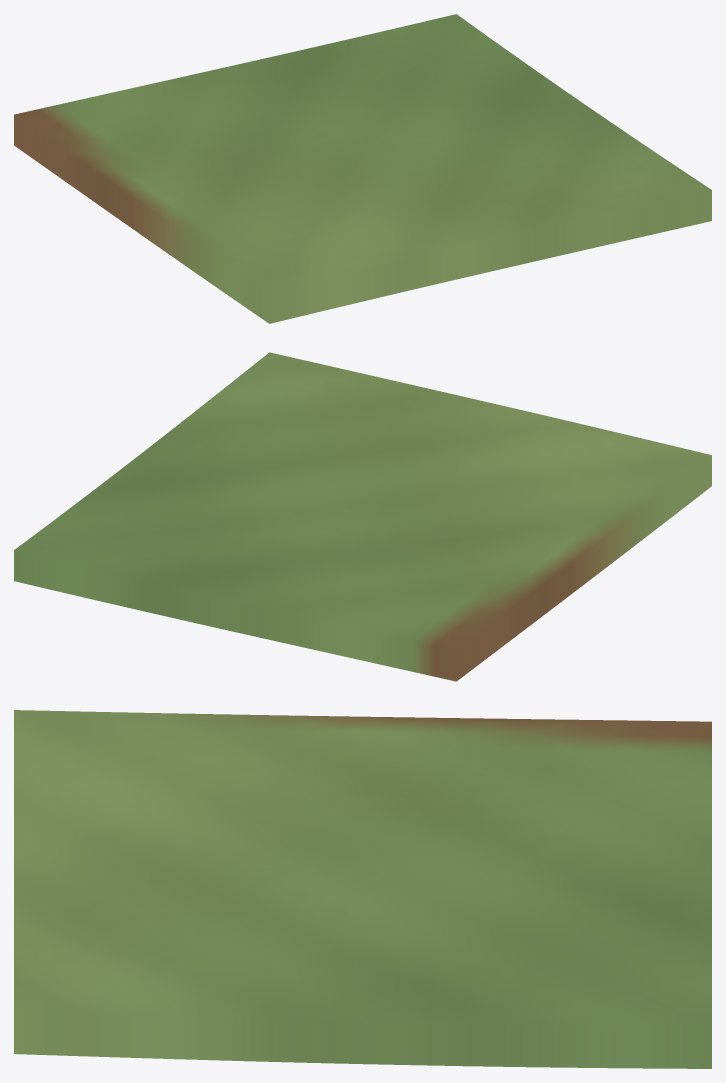
The picture shows the model from 3 angles, top to bottom: view 1: azimuth 30°, elevation 25°; view 2: azimuth 150°, elevation 25°; view 3: azimuth 270°, elevation 25°; orthographic projection. The views are drawn at different scales.
Visible parts, largest first — view 1: terrain; view 2: terrain; view 3: terrain.
Part boxes in pixels (x1,y1,x2,y2): terrain: (14,14,711,323); terrain: (14,352,711,681); terrain: (14,710,711,1068).
Size of the model in its own units: 30 by 3.03 by 30.
